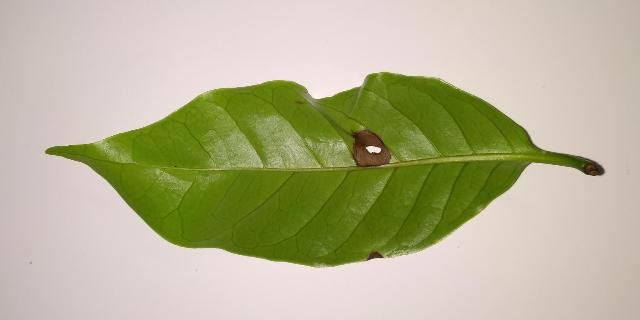rust: (352, 128, 391, 167), (366, 252, 384, 261)
